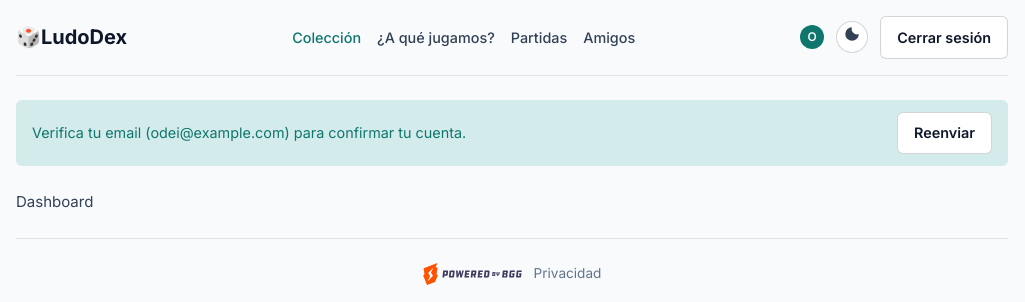
App › resends the verification email and shows the backend message
Click the button "Reenviar". click: click(944, 133)
box: x1=897 y1=112 x2=992 y2=154
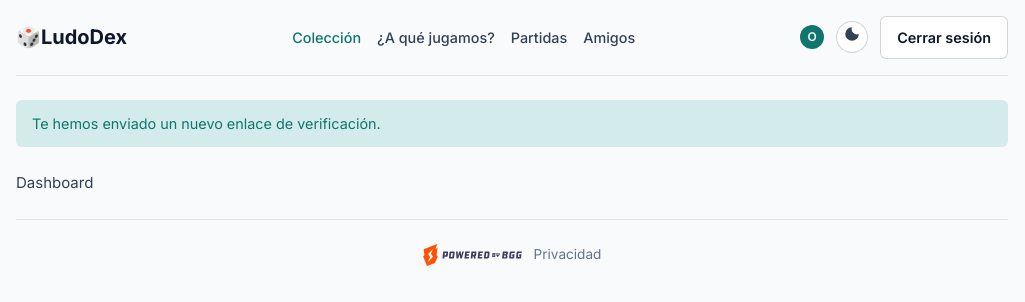
Expected: the element showing "Te hemos enviado un nuevo enlace de verificación." is shown, x1=16 y1=100 x2=1008 y2=147
